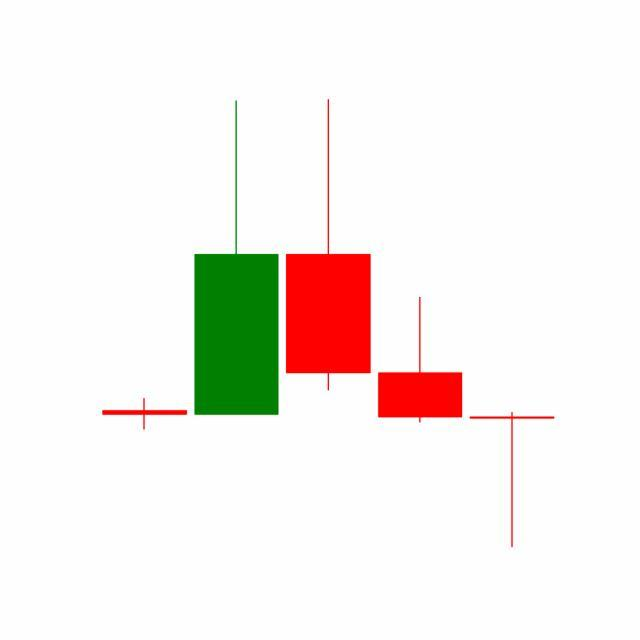Dragonfly Doji: (466, 411, 559, 550)
